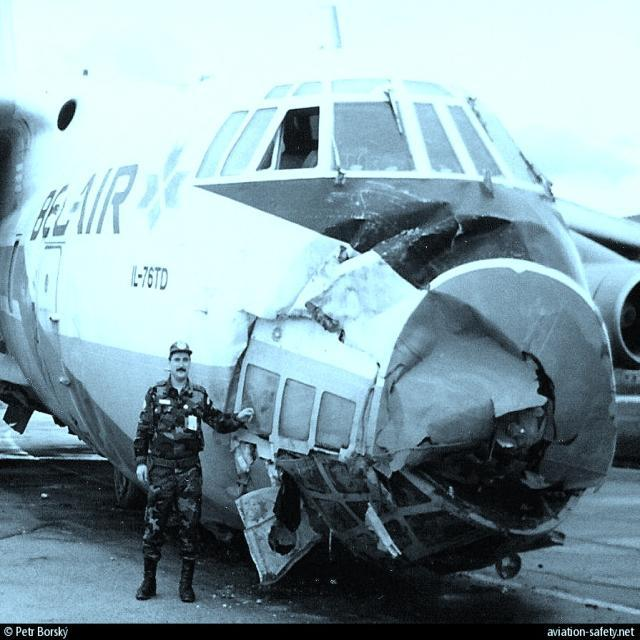dent: (329, 210, 435, 255)
